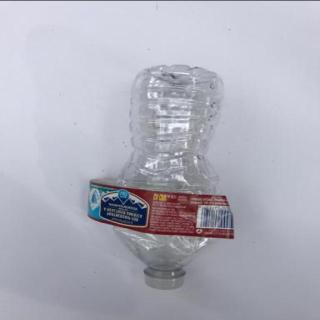Anorganik: (81, 65, 243, 294)
